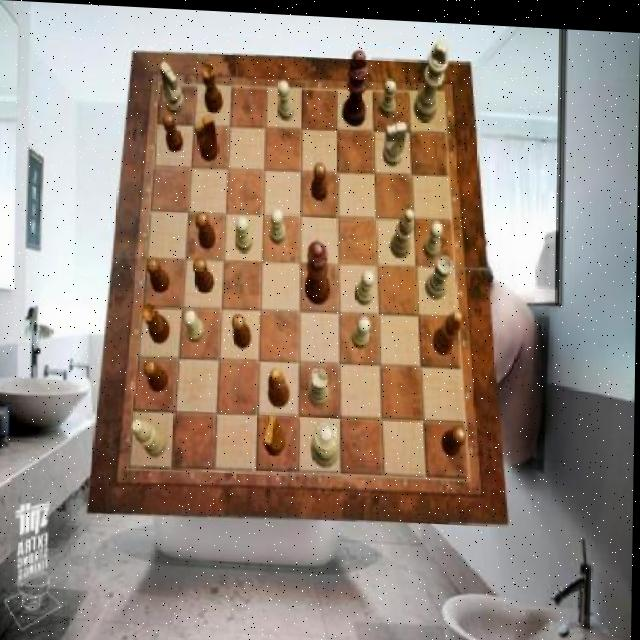bishop: (433, 306, 463, 352), (268, 365, 291, 406)
black-bishop: (342, 45, 369, 123)
black-king: (193, 111, 219, 160), (263, 412, 286, 453)
black-knight: (146, 255, 170, 291), (161, 111, 182, 152), (143, 358, 168, 392), (441, 420, 466, 452), (195, 210, 216, 248), (194, 256, 216, 291), (232, 311, 252, 347), (310, 159, 328, 197)
black-pawn: (306, 237, 331, 302)
black-queen: (141, 300, 170, 342), (199, 59, 222, 111)
black-rook: (132, 418, 167, 457), (390, 204, 415, 255)
white-bishop: (414, 35, 449, 119)
white-king: (161, 60, 186, 114), (382, 117, 407, 163)
white-knight: (423, 216, 444, 254), (185, 306, 206, 341), (356, 266, 376, 302), (276, 77, 293, 118), (236, 213, 253, 251), (270, 205, 287, 242), (353, 313, 372, 346), (380, 75, 396, 114)
white-pawn: (312, 417, 341, 465)
white-queen: (425, 251, 453, 297), (308, 364, 330, 403)
